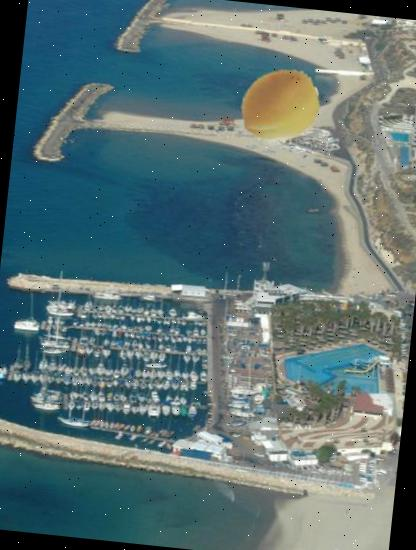Peach: (235, 62, 325, 152)
